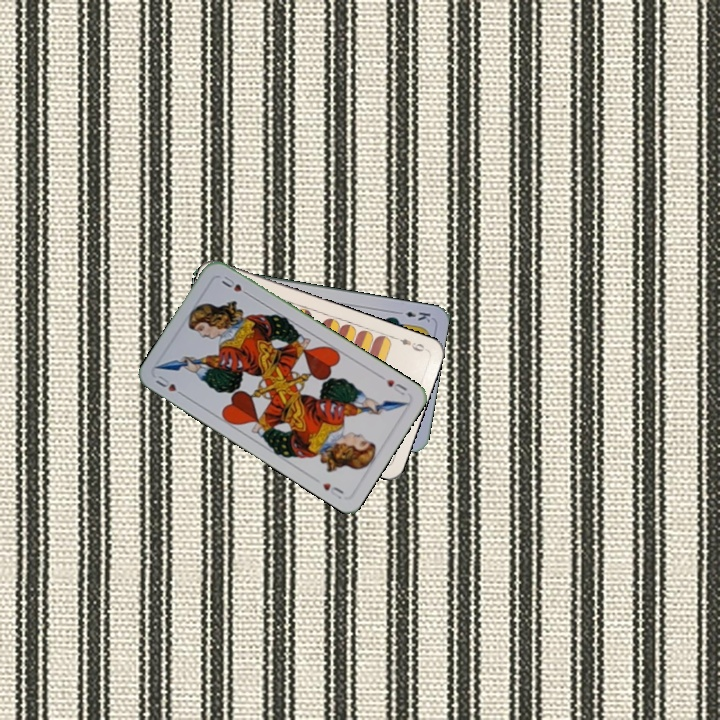E9: (390, 333, 429, 354)
EK: (393, 307, 433, 325)
HU: (151, 370, 188, 399), (376, 371, 410, 398)
